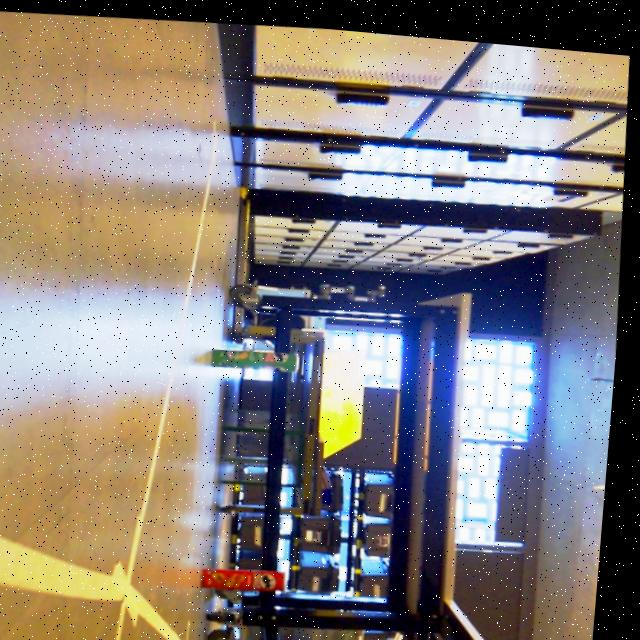greenpringles: (197, 331, 320, 380)
redpringles: (194, 548, 307, 601)
